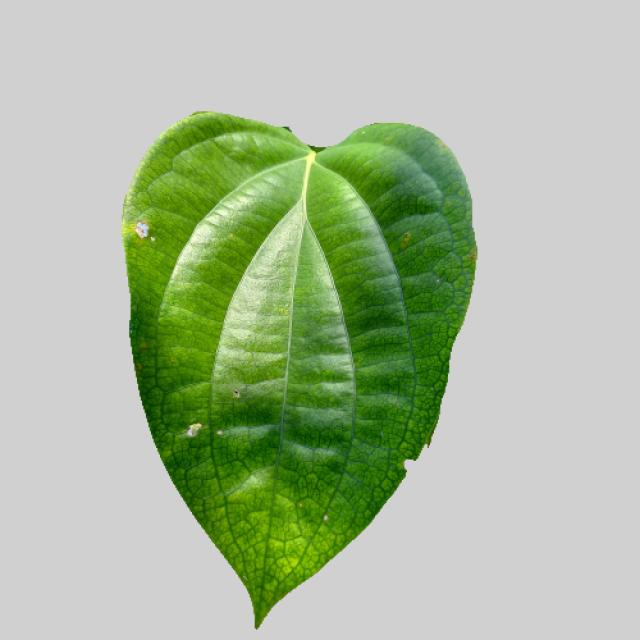healthy: (111, 95, 482, 632)
